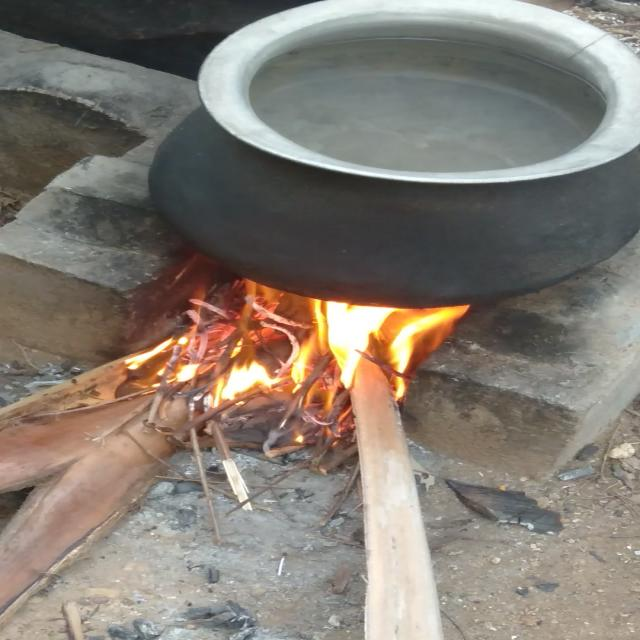Fire: (279, 293, 470, 412), (203, 283, 299, 408)
